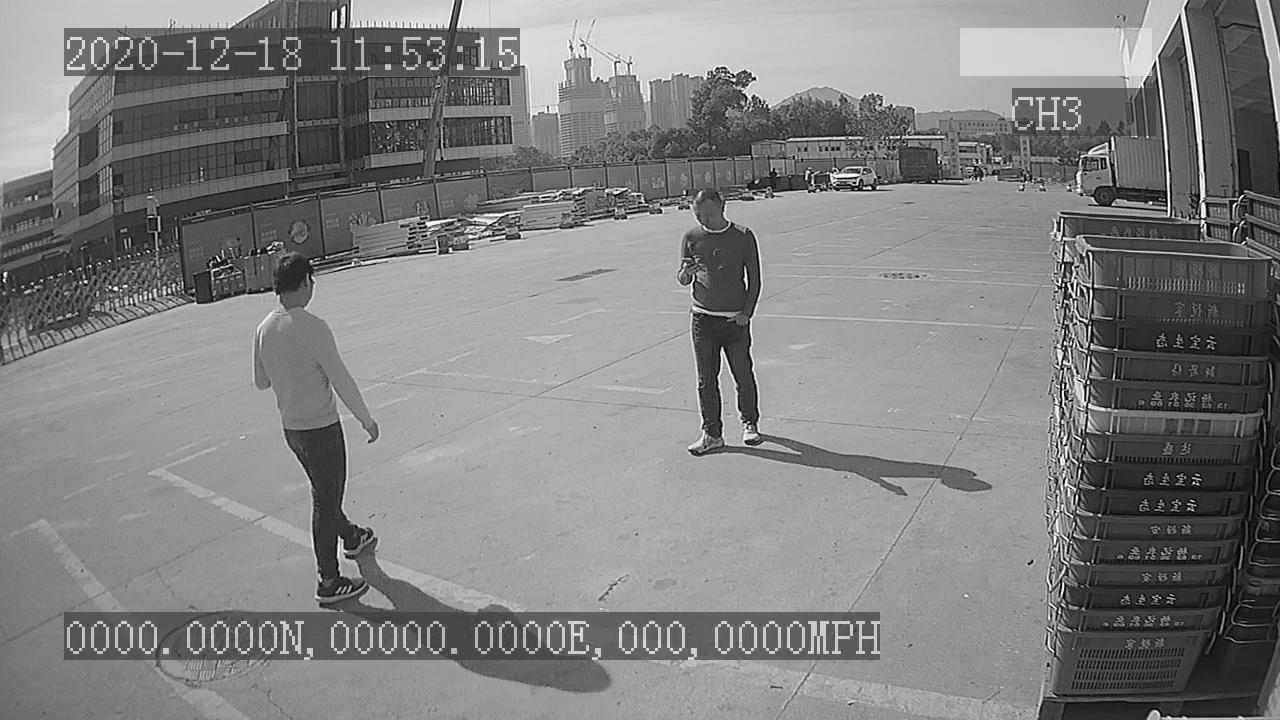person: (247, 247, 390, 606), (670, 179, 772, 461)
